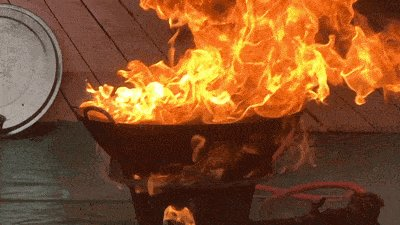fire: (82, 1, 399, 122), (164, 207, 193, 225)
